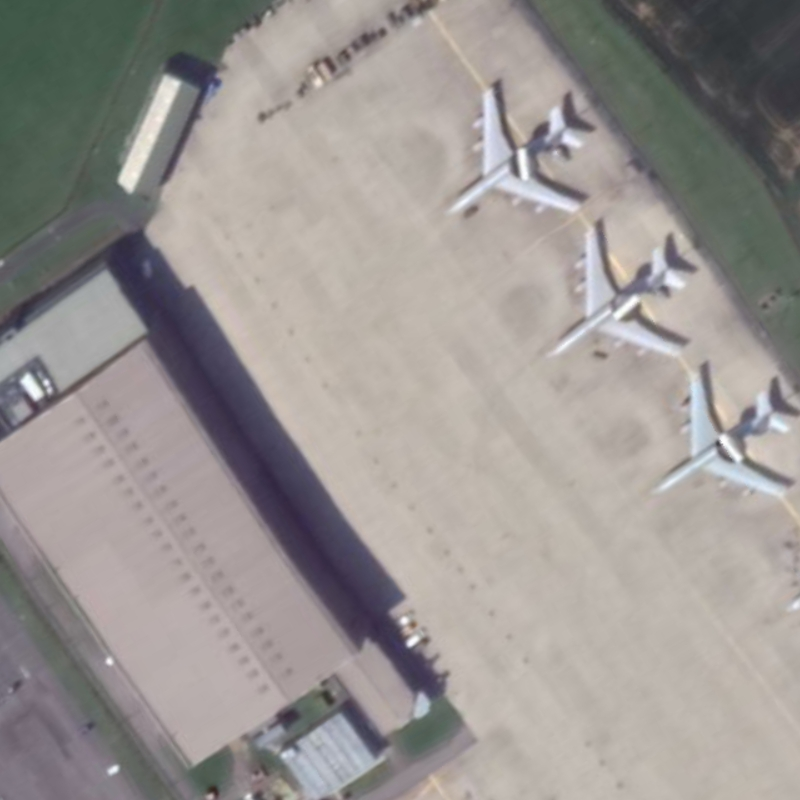A7: (537, 215, 706, 372), (440, 66, 593, 221), (643, 357, 800, 504)
